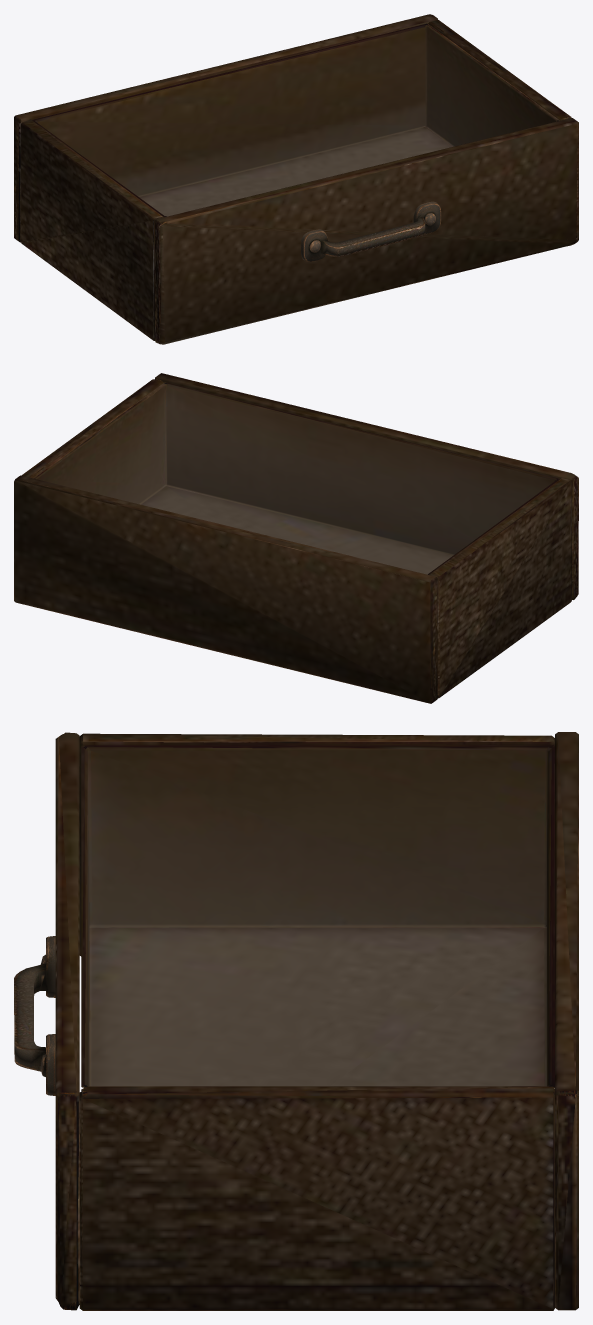
The model's file is stage4_cabinet_door.fbx.
3 views of the same model, one above another, from view 1: azimuth 30°, elevation 25°; view 2: azimuth 150°, elevation 25°; view 3: azimuth 270°, elevation 25° (orthographic). The views are drawn at different scales.
Visible parts, largest first — view 1: stage4_cabinet_door; view 2: stage4_cabinet_door; view 3: stage4_cabinet_door.
Boxes of the visible parts, box(x1,y1,x2,y2) form: stage4_cabinet_door: box(14, 14, 578, 344); stage4_cabinet_door: box(14, 373, 578, 703); stage4_cabinet_door: box(14, 732, 578, 1310).
Size of the model in its own units: 50.43 by 14.22 by 33.25.
